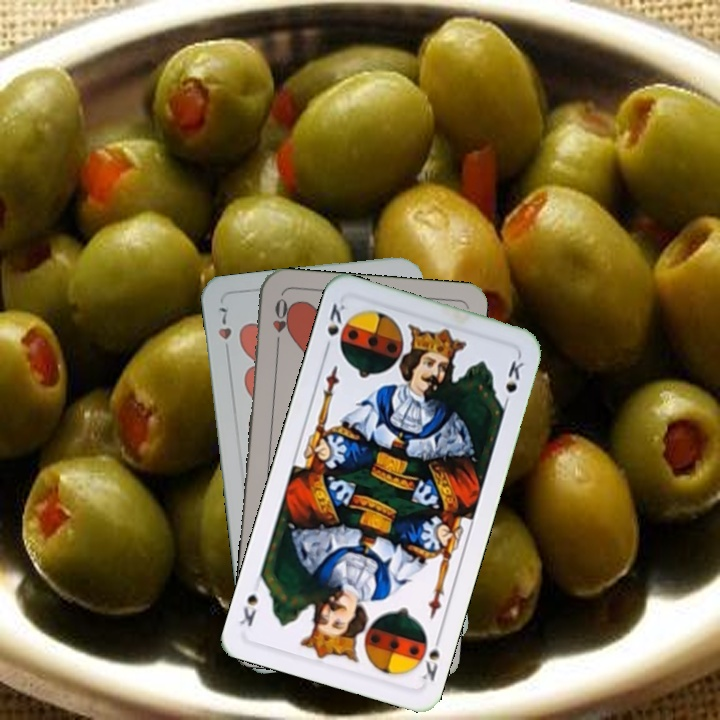H7: (214, 303, 234, 360)
HO: (268, 294, 292, 352)
SK: (412, 629, 444, 684), (320, 299, 348, 355)
